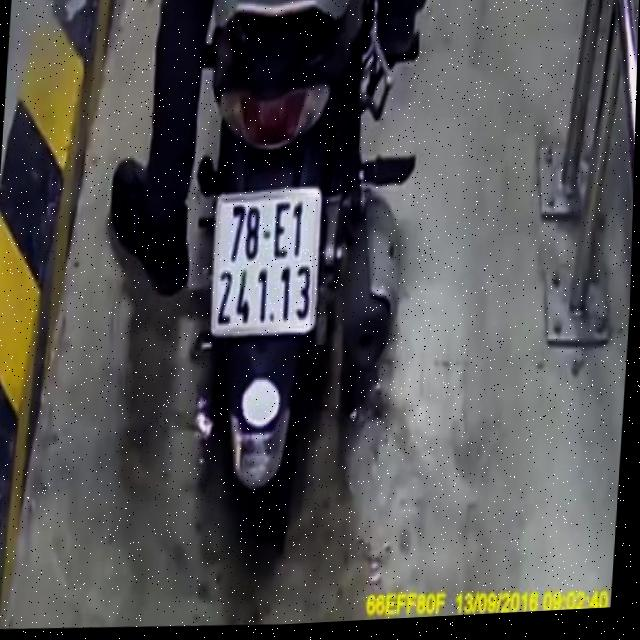motorcycle: (154, 0, 445, 562)
plate: (205, 186, 327, 344)
